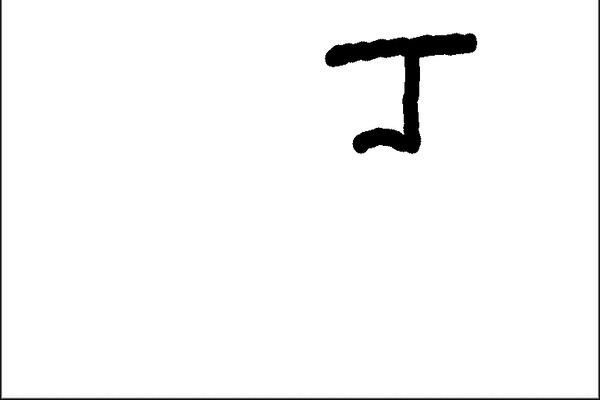J: (320, 27, 485, 162)
